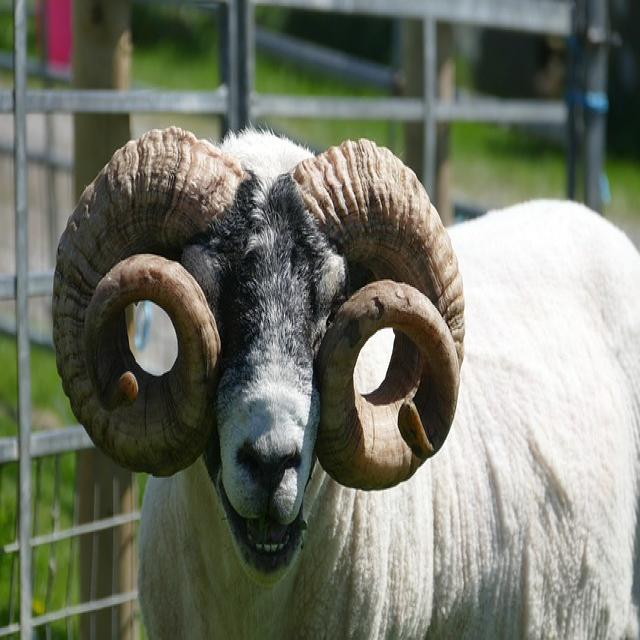sheep: (51, 123, 639, 639)
